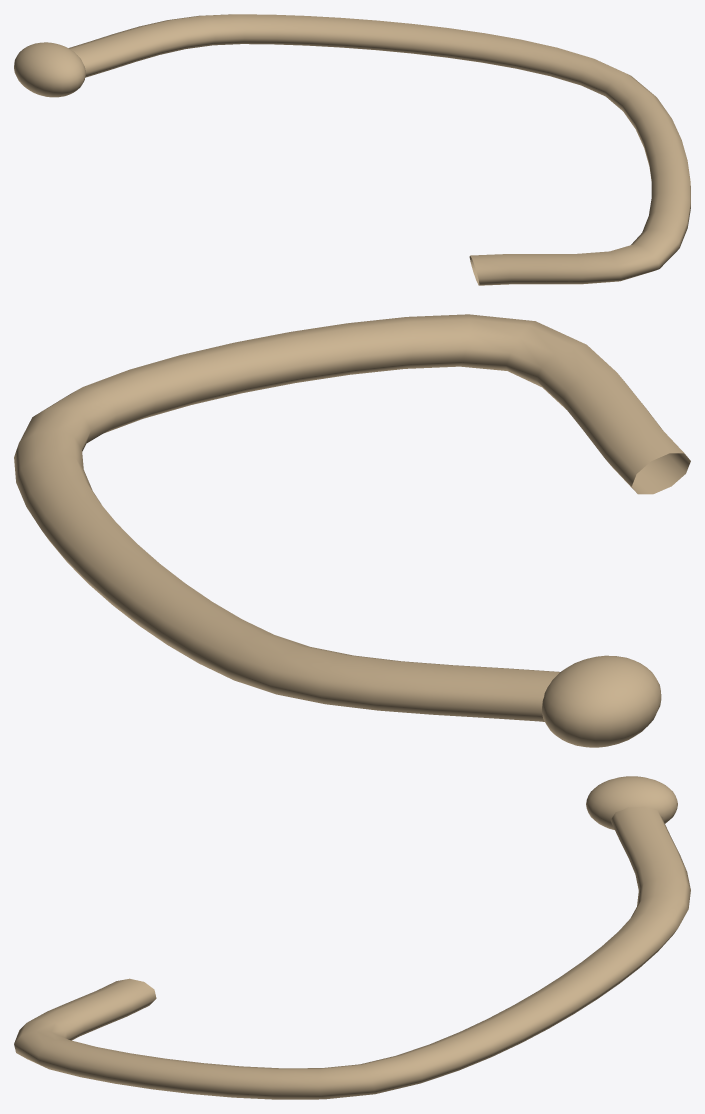
Rendered from left_rib_11.glb.
3 views of the same model, one above another, from view 1: azimuth 30°, elevation 25°; view 2: azimuth 150°, elevation 25°; view 3: azimuth 270°, elevation 25° (orthographic). The views are drawn at different scales.
Parts seen in each view (by area): view 1: left_rib_11:costal-body, left_rib_11:head; view 2: left_rib_11:costal-body, left_rib_11:head; view 3: left_rib_11:costal-body, left_rib_11:head.
Boxes of the visible parts, x1,y1,x2,y2 form: left_rib_11:costal-body: [68, 14, 690, 285]; left_rib_11:head: [14, 42, 85, 97]; left_rib_11:costal-body: [14, 314, 690, 721]; left_rib_11:head: [542, 655, 661, 747]; left_rib_11:costal-body: [14, 806, 690, 1099]; left_rib_11:head: [586, 776, 677, 829].
Bounding box in the file's own units: 0.369 × 0.081 × 0.405.
